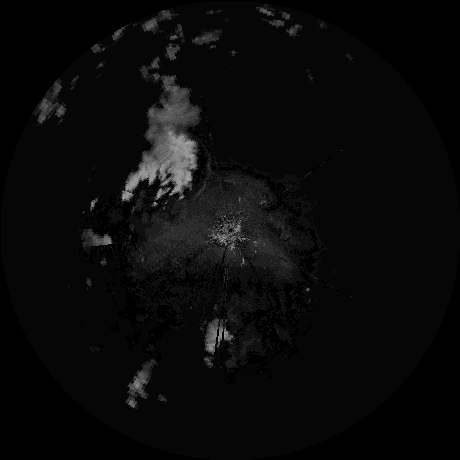frontgust: (196, 160, 213, 191)
